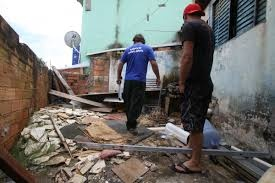rubble: (31, 100, 117, 164)
